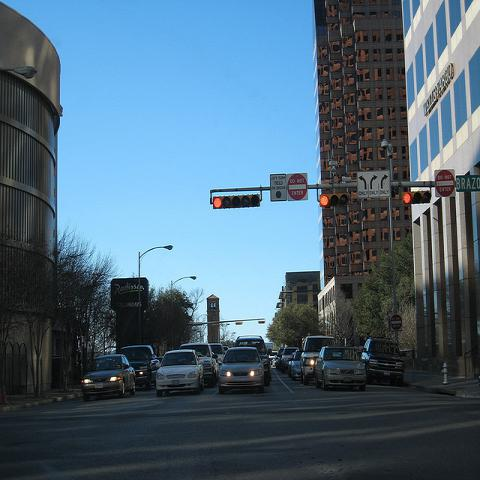car: (151, 338, 284, 383), (81, 354, 136, 402), (313, 346, 368, 392), (217, 343, 263, 396), (156, 348, 204, 396), (361, 337, 405, 386), (178, 342, 219, 389), (119, 345, 155, 389), (287, 349, 303, 380), (281, 347, 299, 374), (209, 342, 224, 372), (268, 350, 279, 364)
truck: (234, 333, 272, 386), (119, 345, 160, 389), (300, 336, 336, 385)
